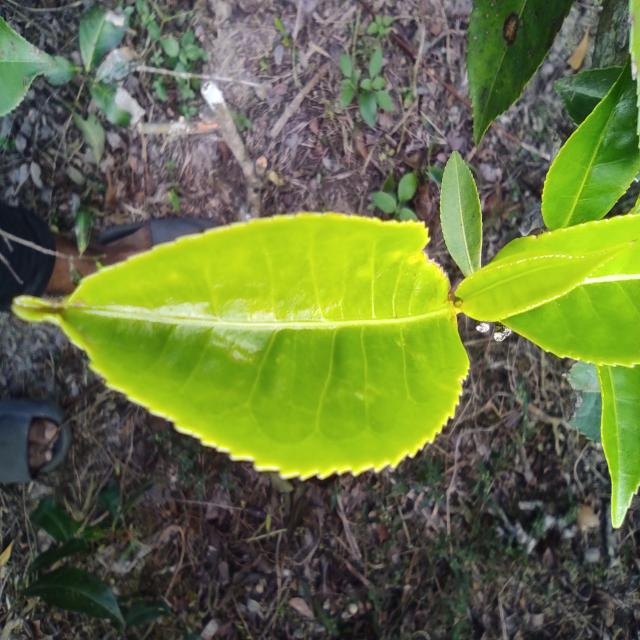Category B(2-4 days): (6, 205, 482, 490)
